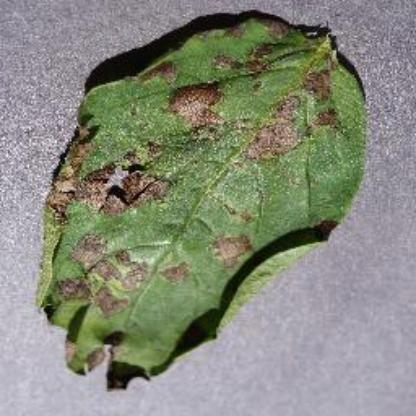Early-Blight: (35, 12, 373, 392)
